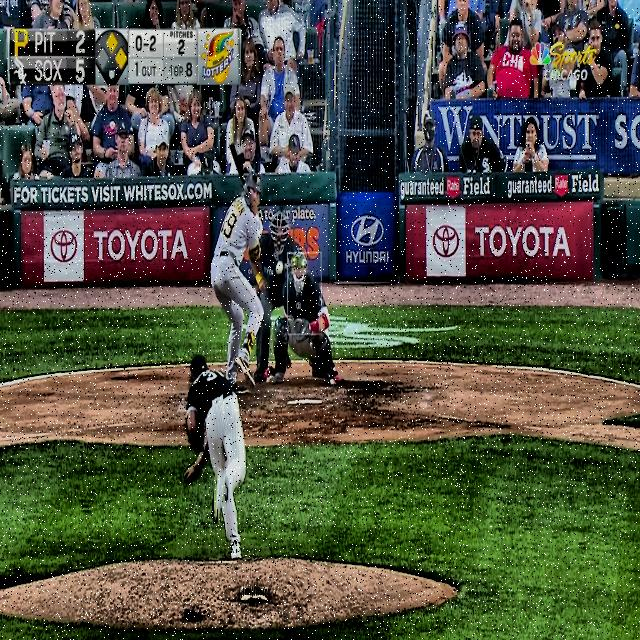baseball: (276, 261, 283, 275)
